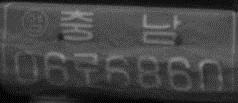0: (198, 58, 225, 96), (13, 49, 39, 87)
6: (104, 54, 133, 92), (43, 50, 70, 88), (166, 55, 193, 93)
8: (135, 53, 162, 92)
로: (73, 50, 100, 91)
영: (21, 7, 49, 38)
충남_D: (59, 8, 181, 46)
